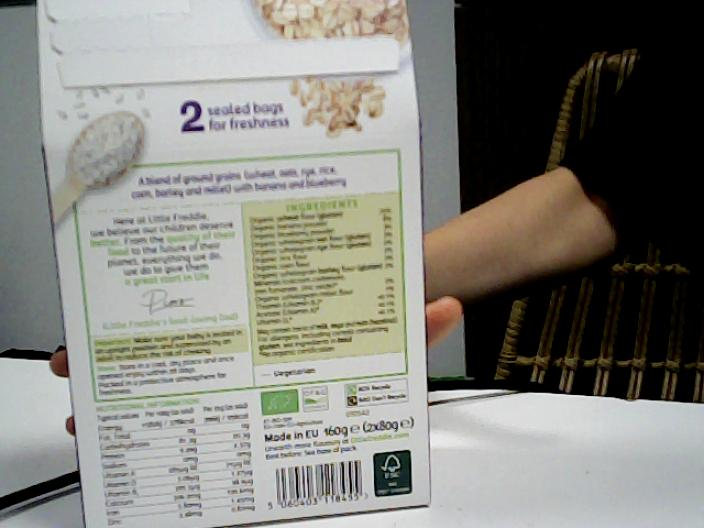Babyfood_100-199g_NonHalal_NonHealthy: (86, 4, 411, 525)
